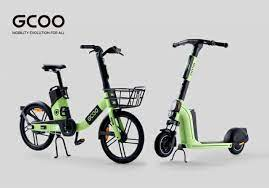kick_board: (154, 38, 249, 157)
kick_body: (191, 139, 225, 147)
kick_handler: (174, 39, 229, 53)
kick_neck: (172, 56, 196, 123)
kick_wheel: (226, 128, 248, 154), (156, 129, 176, 156)
